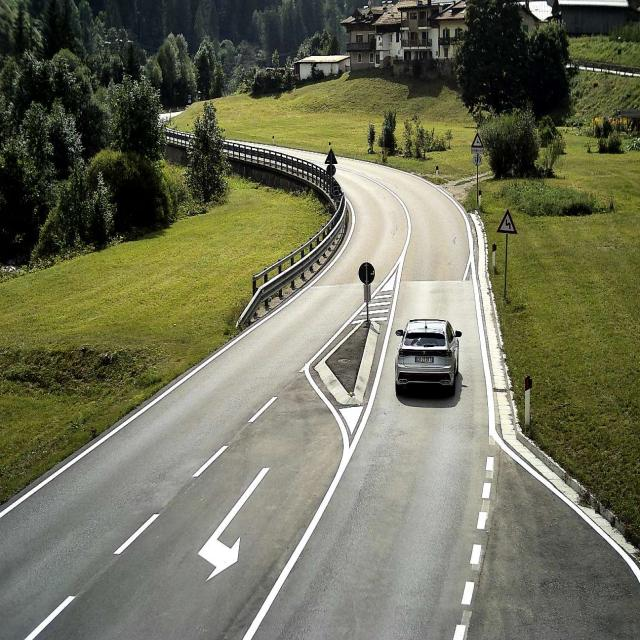car: (394, 318, 462, 395)
